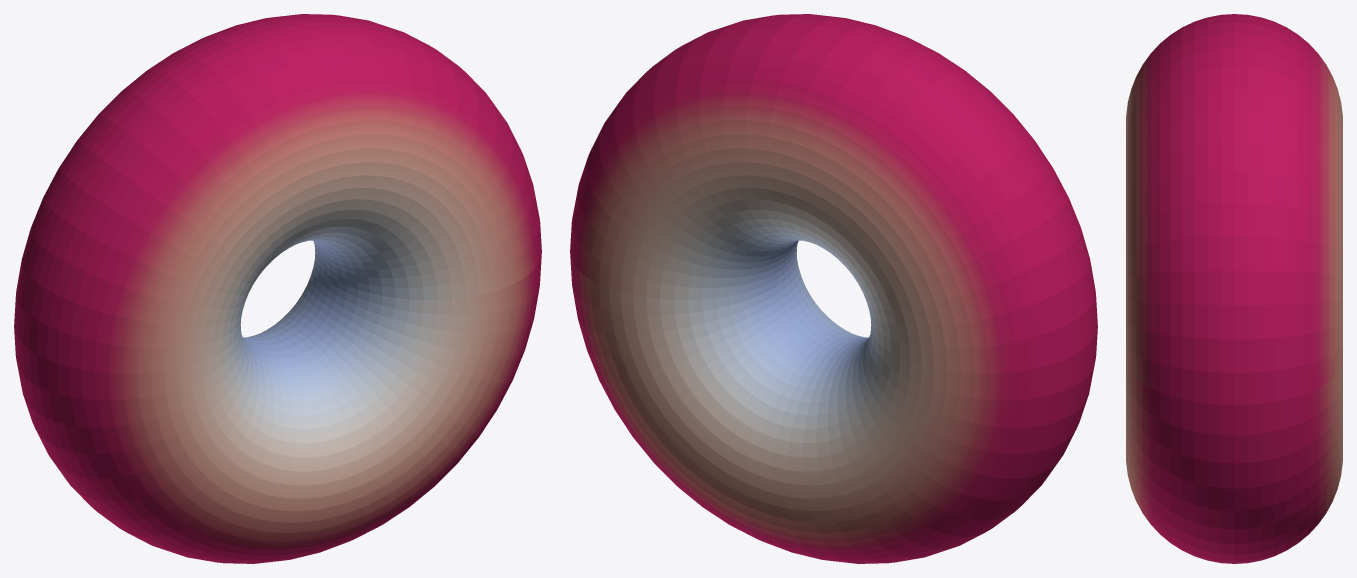
The picture shows the model from 3 angles, left to right: view 1: azimuth 30°, elevation 25°; view 2: azimuth 150°, elevation 25°; view 3: azimuth 270°, elevation 25°; orthographic projection. The views are drawn at different scales.
Visible parts, largest first — view 1: world; view 2: world; view 3: world.
Part boxes in pixels (x1,y1,x2,y2): world: [14, 14, 541, 563]; world: [570, 14, 1097, 563]; world: [1126, 14, 1342, 563].
Bounding box in the file's own units: 25.33 × 25.28 × 9.98.
